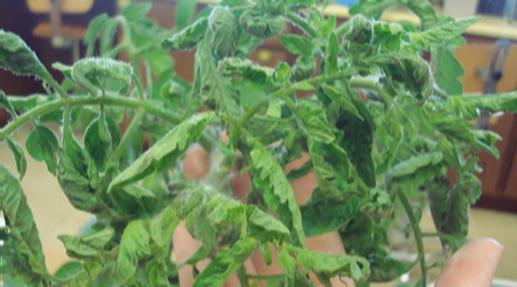Tomato leaf mosaic virus: (110, 106, 221, 190), (235, 125, 302, 245), (306, 116, 352, 203), (183, 238, 258, 287), (20, 123, 62, 176), (158, 17, 211, 54)
